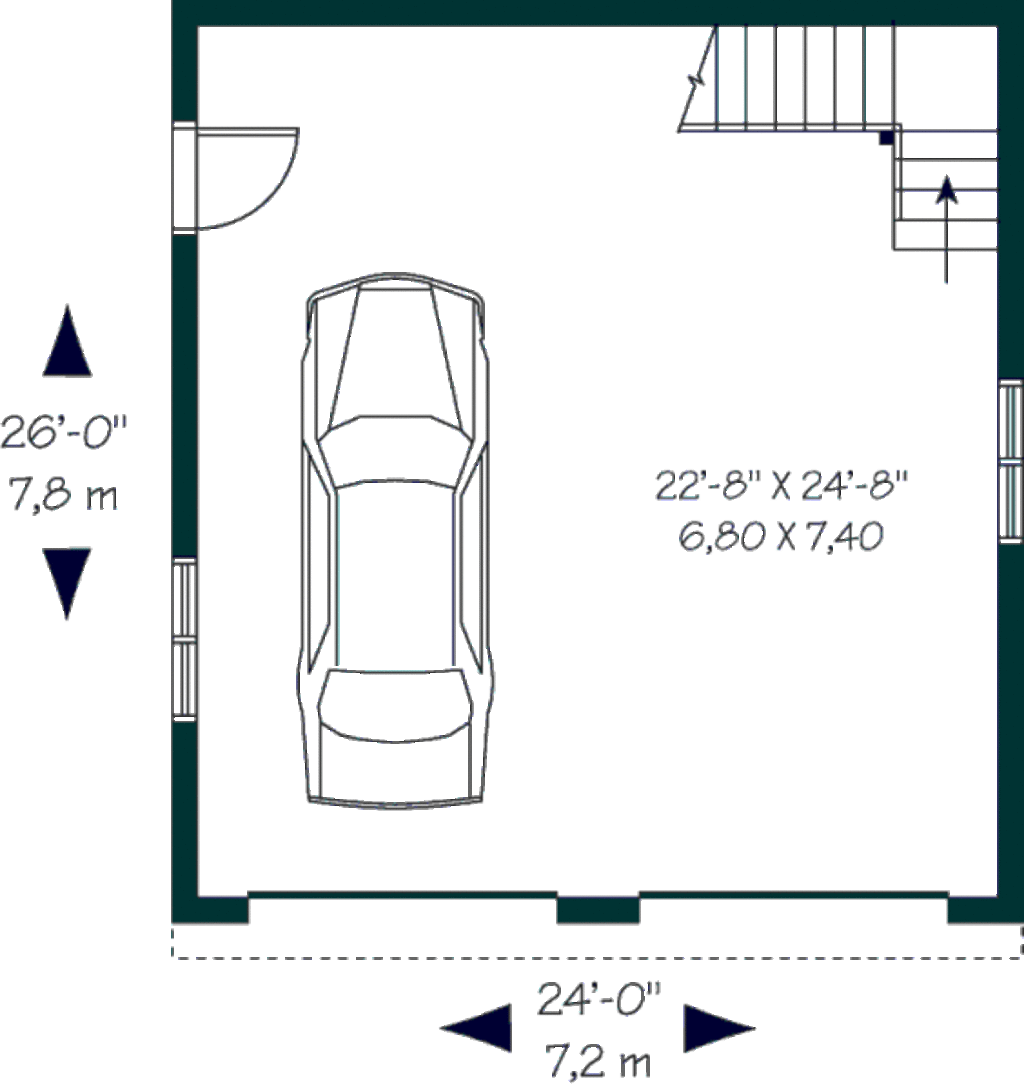door: (164, 121, 314, 255)
stairs: (679, 26, 1005, 256)
window: (167, 553, 209, 721), (992, 378, 1024, 541)
